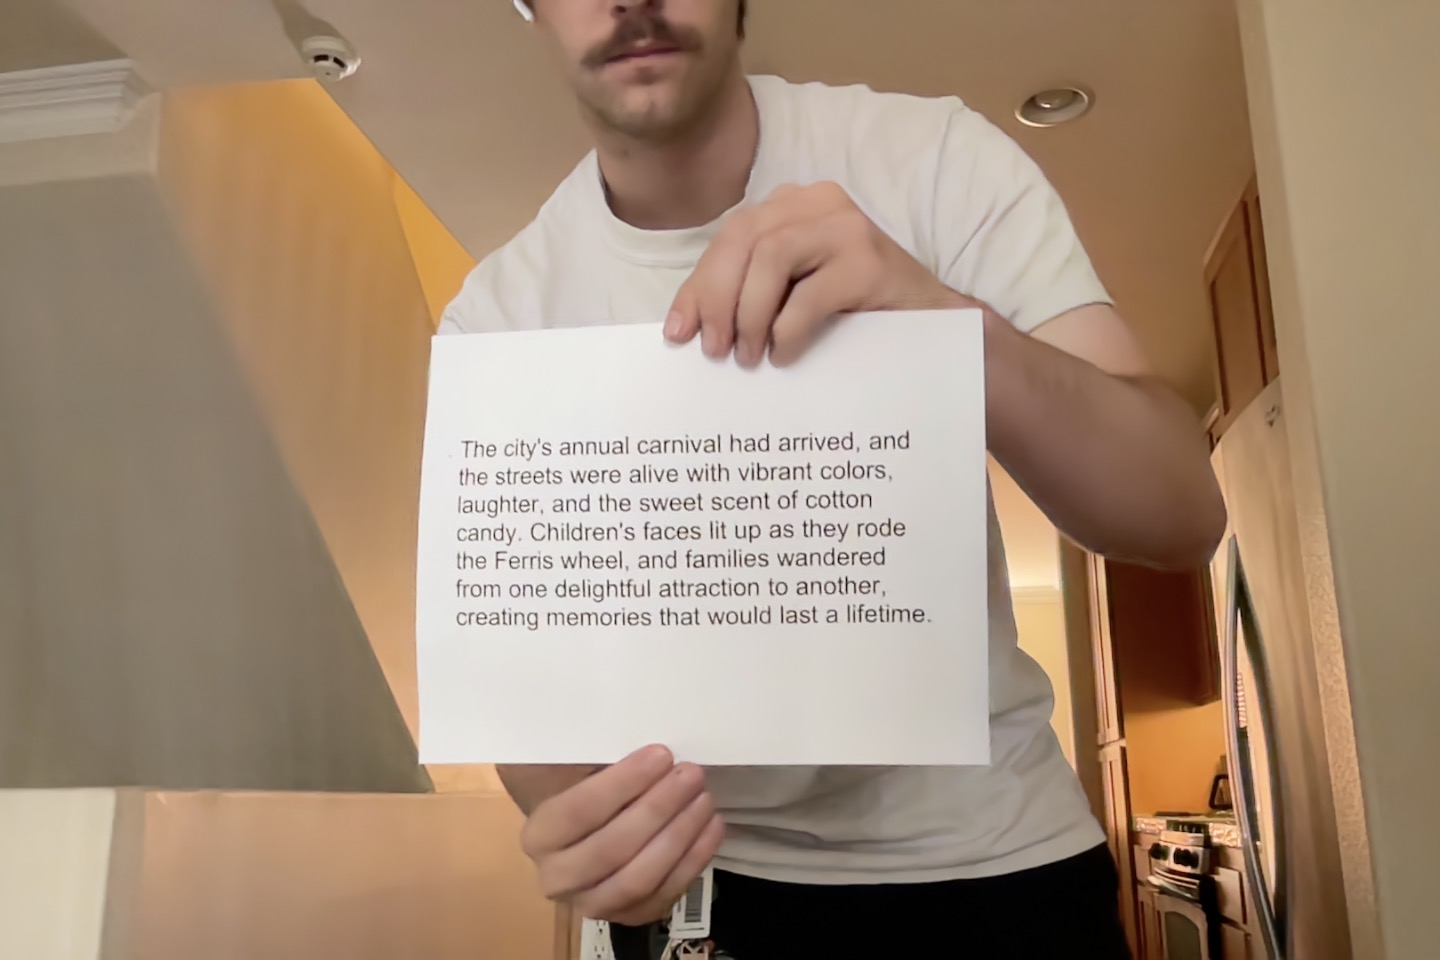paragraph: (450, 427, 936, 641)
